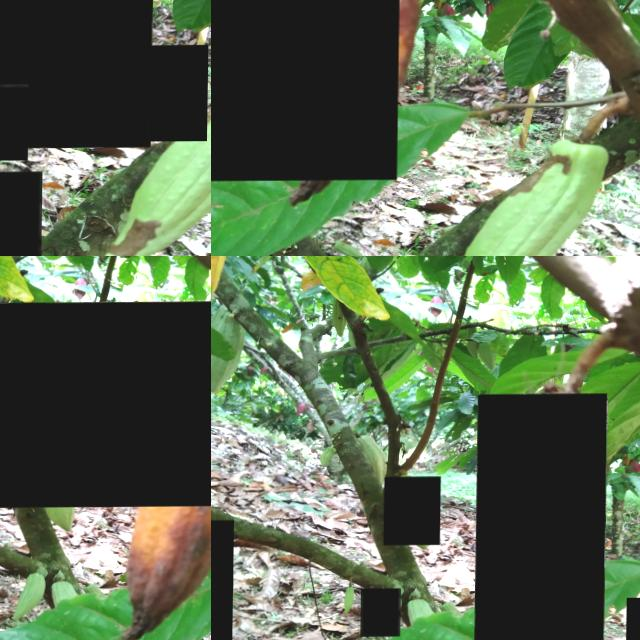Fitoftora: (211, 0, 401, 181), (475, 394, 608, 640), (0, 0, 156, 150)
Sana: (0, 300, 211, 508), (148, 46, 210, 142), (385, 477, 442, 546), (0, 172, 43, 256), (211, 520, 235, 640), (0, 85, 30, 161), (362, 589, 402, 637)
